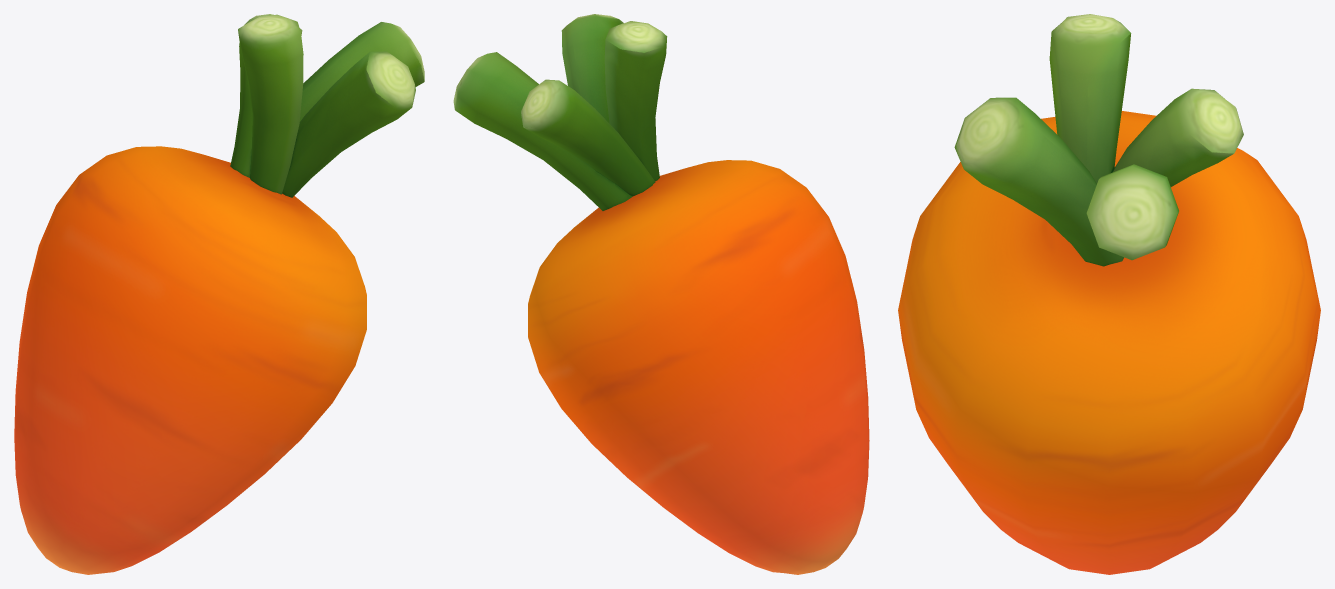
File: carrot.glb
The picture shows the model from 3 angles, left to right: view 1: azimuth 30°, elevation 25°; view 2: azimuth 150°, elevation 25°; view 3: azimuth 270°, elevation 25°; orthographic projection. The views are drawn at different scales.
Visible parts, largest first — view 1: Carrot_1, Leaf_0; view 2: Carrot_1, Leaf_0; view 3: Carrot_1, Leaf_0.
Boxes of the visible parts, x1,y1,x2,y2 form: Carrot_1: [14, 146, 366, 574]; Leaf_0: [230, 14, 424, 197]; Carrot_1: [528, 160, 869, 574]; Leaf_0: [453, 14, 667, 210]; Carrot_1: [898, 111, 1320, 574]; Leaf_0: [954, 14, 1243, 266].
Size of the model in its own units: 2.85 by 3.48 by 2.06.
Materials: 1 (1 with a texture image).
